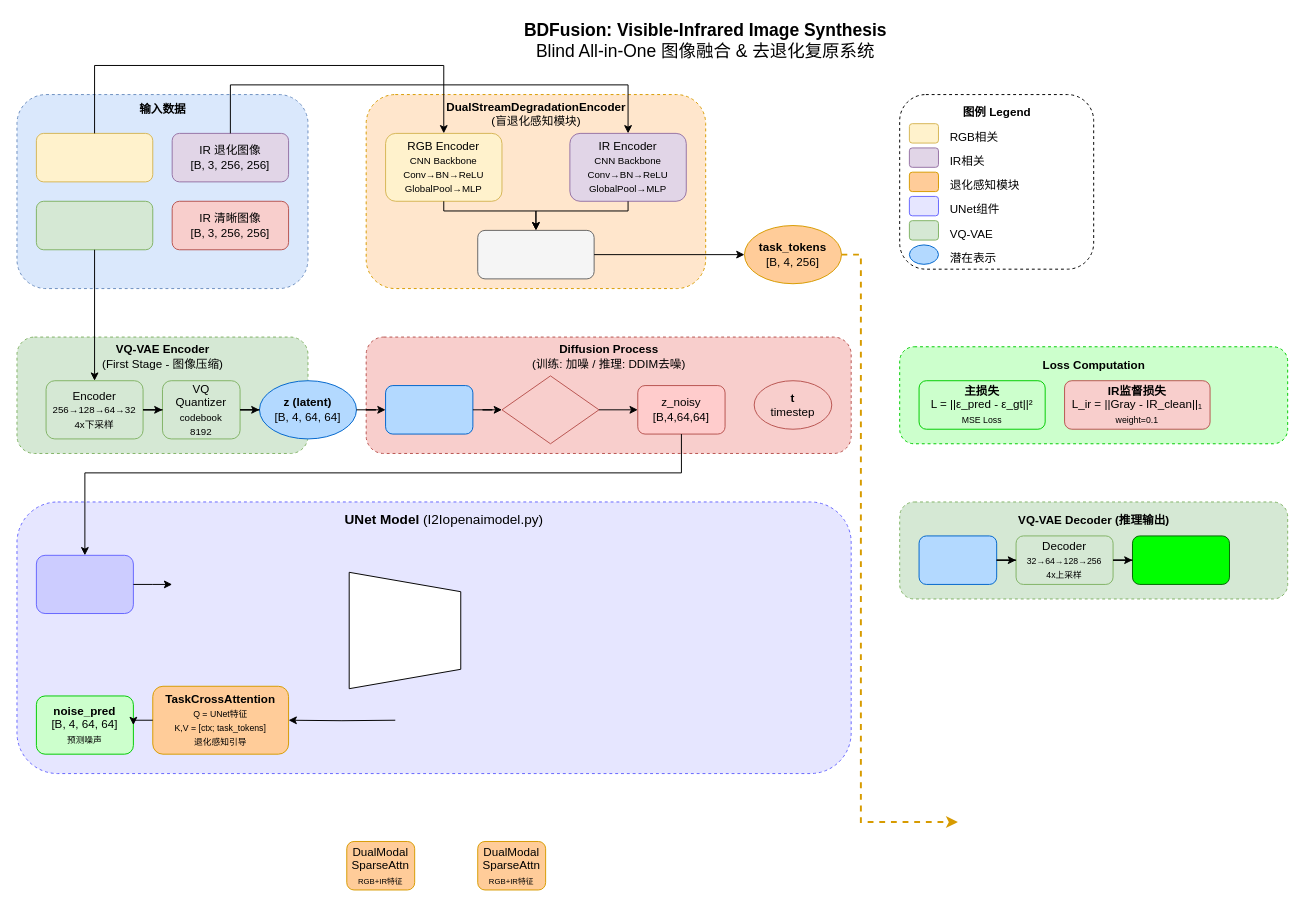
The diagram is 1305 pixels wide and 907 high, and some of its shapes have lost their labels. The shapes that lost their labels are listed below. From the top down, each one's box as (x1, y1, x2, y2) in pixels, then its label:
(35, 132, 153, 182): RGB 退化图像 [B, 3, 256, 256]
(35, 200, 153, 250): GT 清晰图像 [B, 3, 256, 256]
(477, 229, 594, 279): Cross-Attention Fusion RGB attend to IR
(385, 385, 473, 434): z_clean [B,4,64,64]
(501, 375, 599, 444): q(z_t|z_0) 加噪 t~U[1,1000]
(918, 535, 997, 584): z_0 [B,4,64,64] 去噪后
(1132, 535, 1229, 584): 融合输出 [B,3,256,256] 去退化结果
(35, 554, 133, 614): UNet Input [z; rgb; ir] [B, 9, 64, 64]
